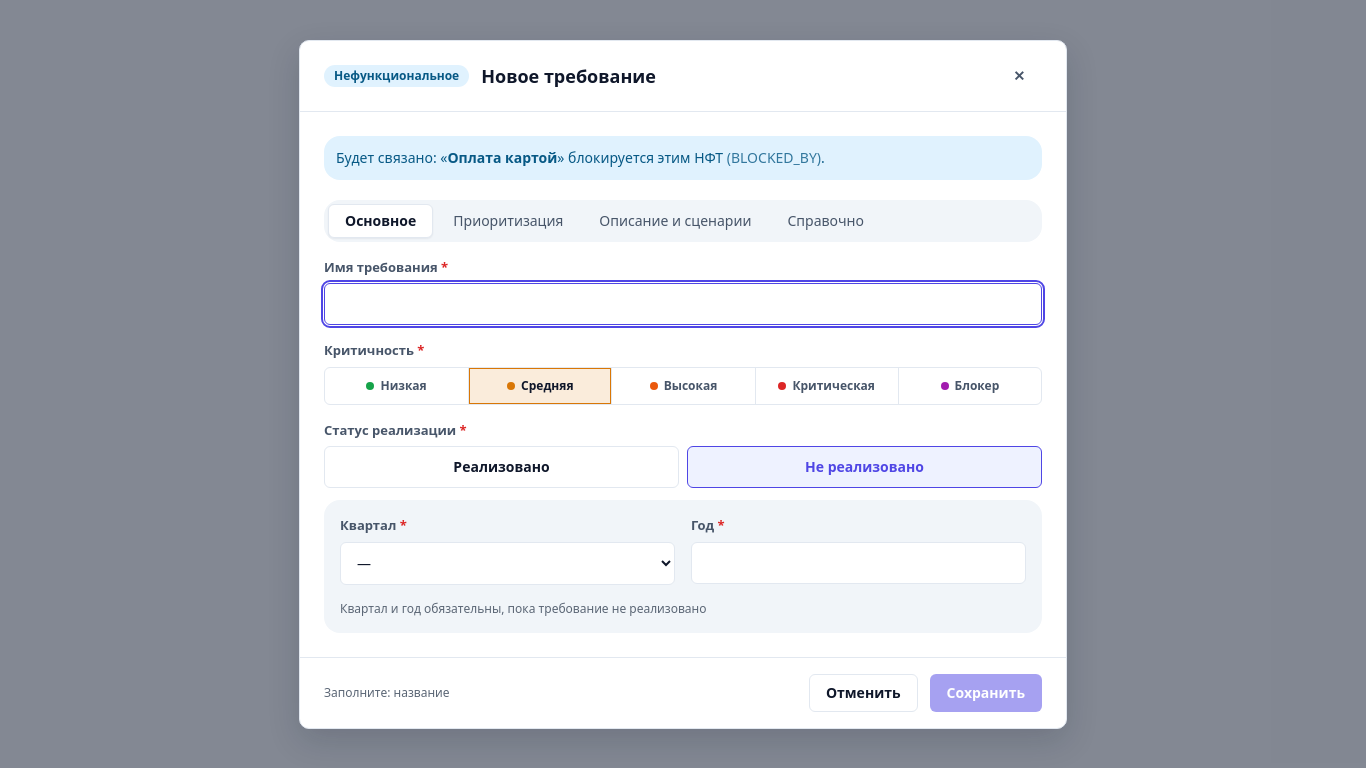
Test case: RequirementModal — link sections & error branches (Task 12 · F-1) › preset-link creation failure: requirement created, link error surfaced, modal not closed
Step 1. Click the button with test id "req-implemented-yes" → coordinates (502, 467), box [324,446,679,488]
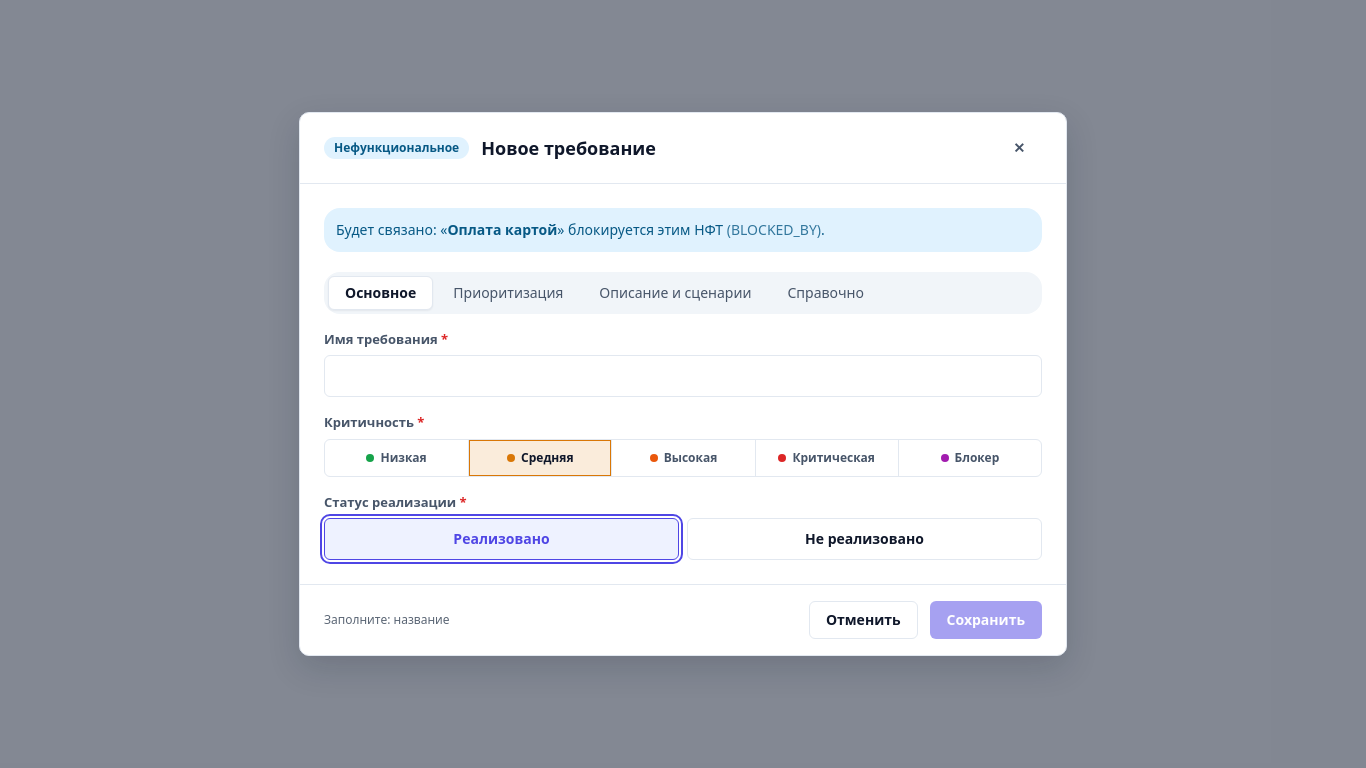
Step 2. Type "PCI DSS" into the field with test id "req-name" → coordinates (683, 376), box [324,355,1042,397]
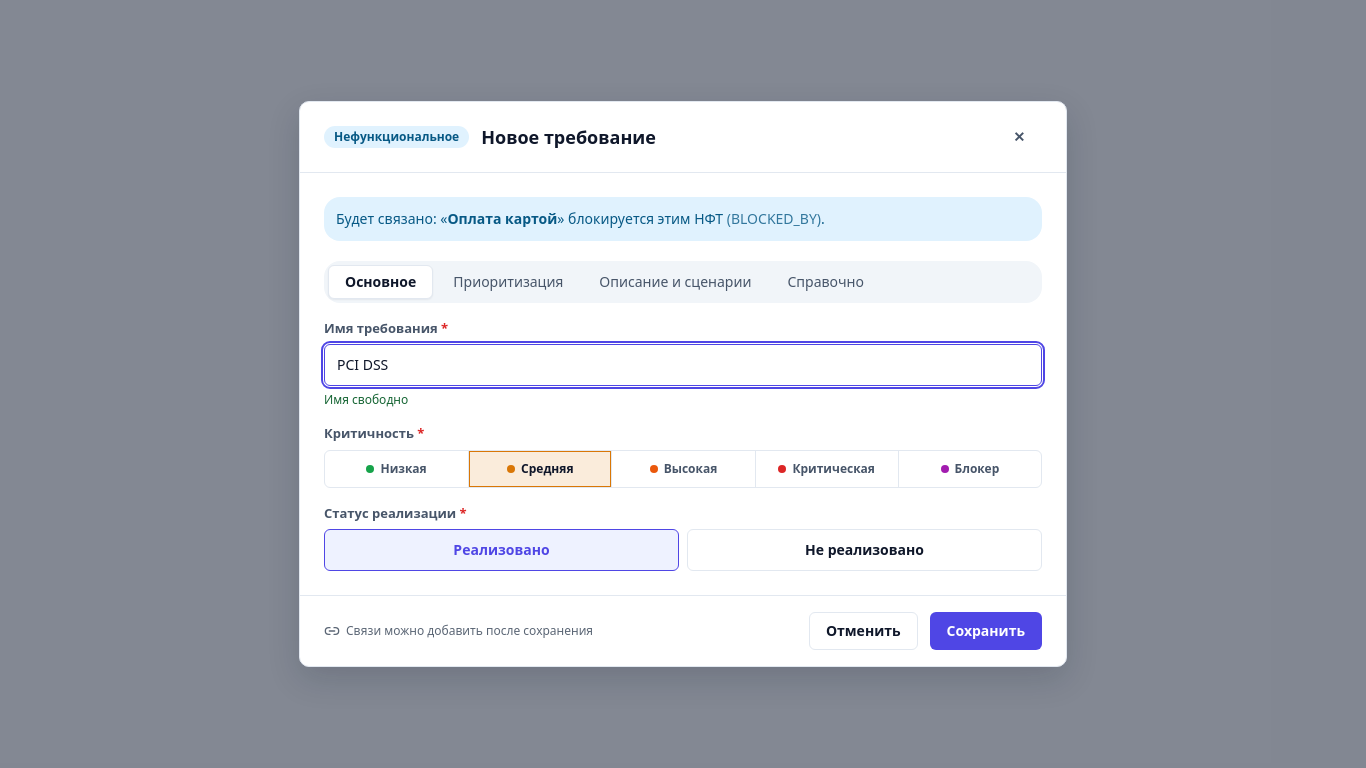
Step 3. Click the button with test id "req-submit" → coordinates (986, 631), box [930,612,1042,650]
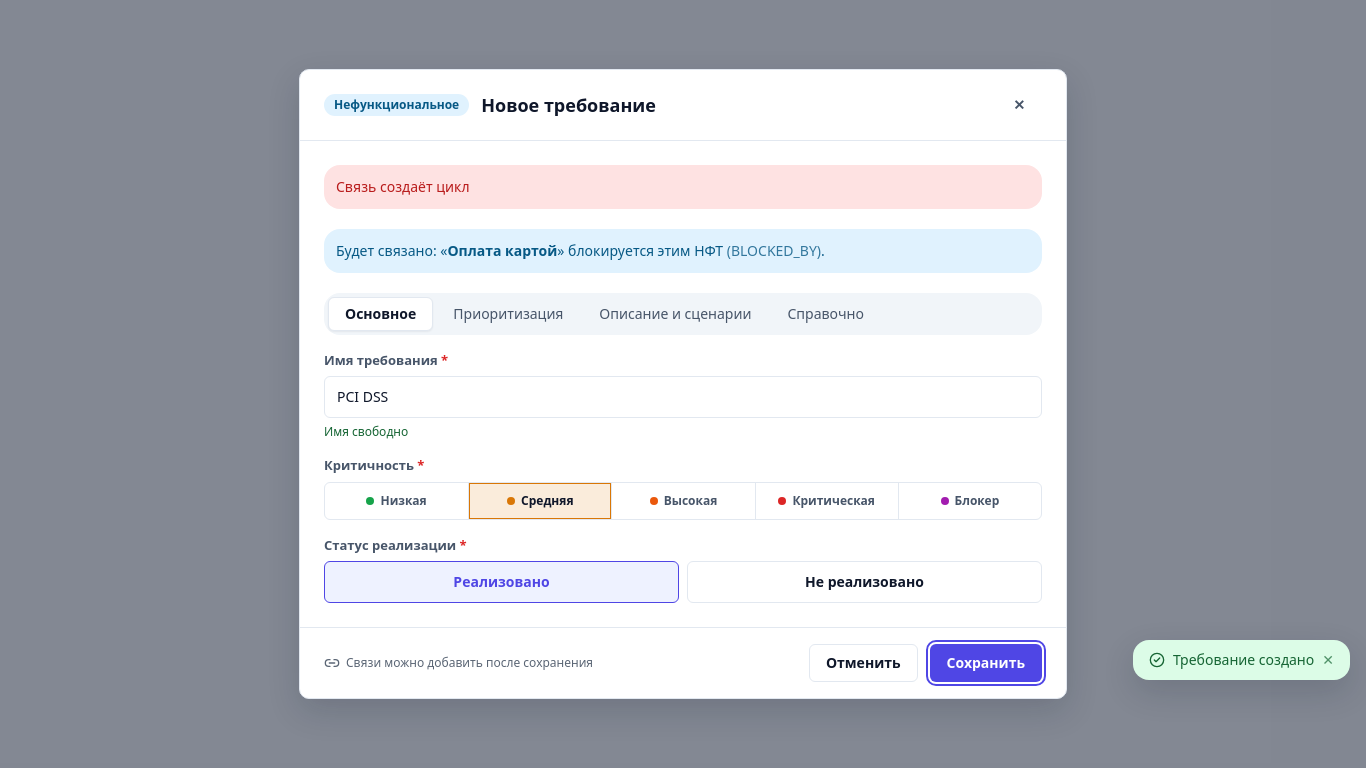
Expected: the message with test id "req-error" reads "Связь создаёт цикл", [336,177,470,196]
